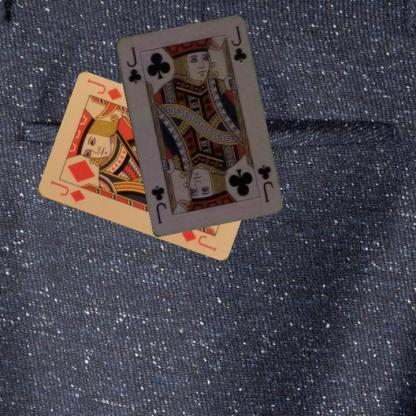Jc: (254, 161, 274, 204), (123, 44, 143, 85)
Jd: (47, 178, 86, 204)
